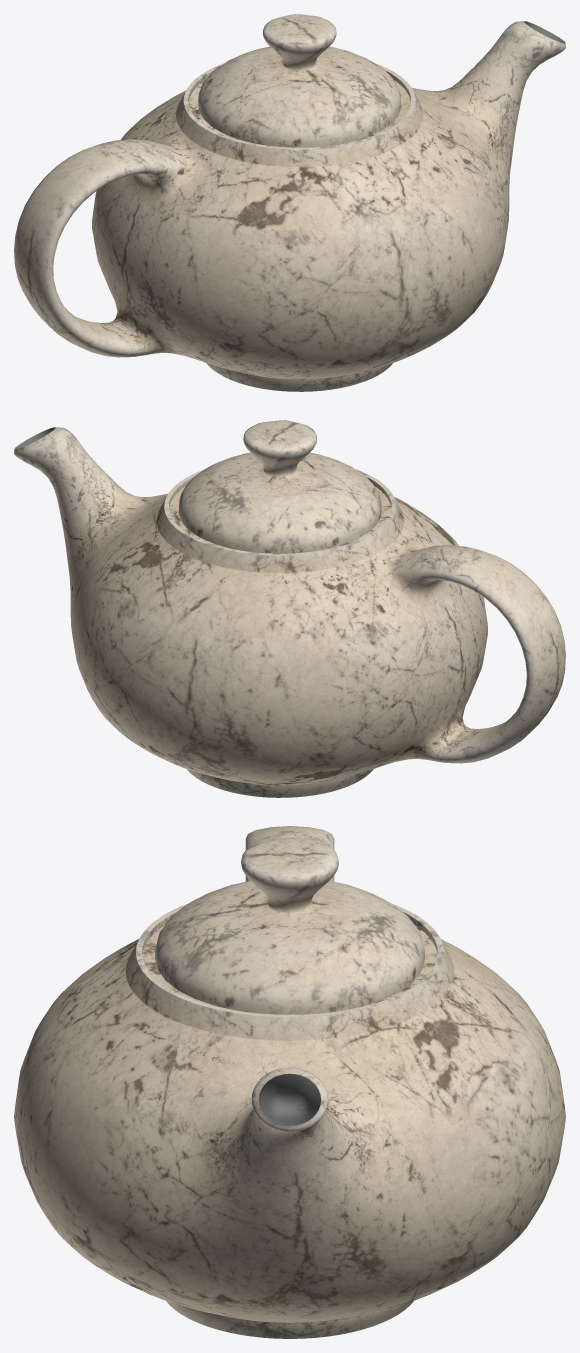
3 renders of one model, top to bottom at view 1: azimuth 30°, elevation 25°; view 2: azimuth 150°, elevation 25°; view 3: azimuth 270°, elevation 25°, orthographic. The views are drawn at different scales.
Parts seen in each view (by area): view 1: Cylinder, Sphere; view 2: Cylinder, Sphere; view 3: Cylinder, Sphere.
Boxes of the visible parts, x1,y1,x2,y2 form: Cylinder: [14, 21, 565, 391]; Sphere: [188, 14, 410, 147]; Cylinder: [14, 427, 565, 797]; Sphere: [169, 420, 391, 553]; Cylinder: [14, 826, 565, 1338]; Sphere: [142, 838, 437, 1014].
Size of the model in its own units: 0.3035 by 0.1748 by 0.2035.
